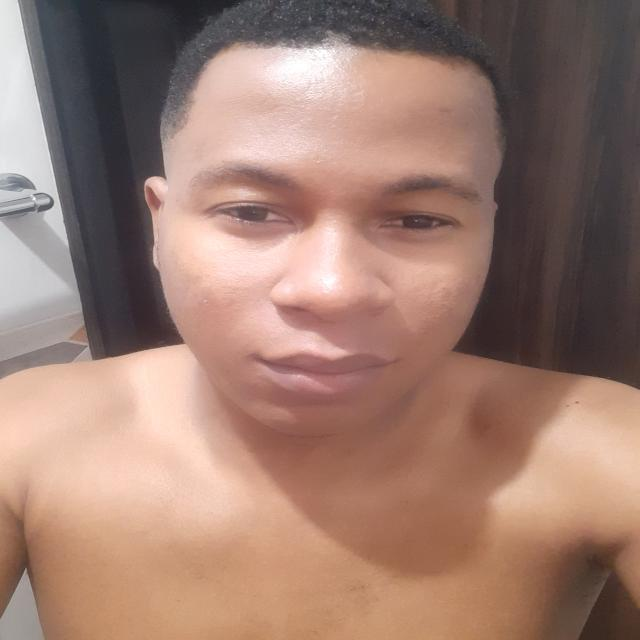Englarged-Pores: (196, 273, 246, 318), (403, 287, 457, 324)
